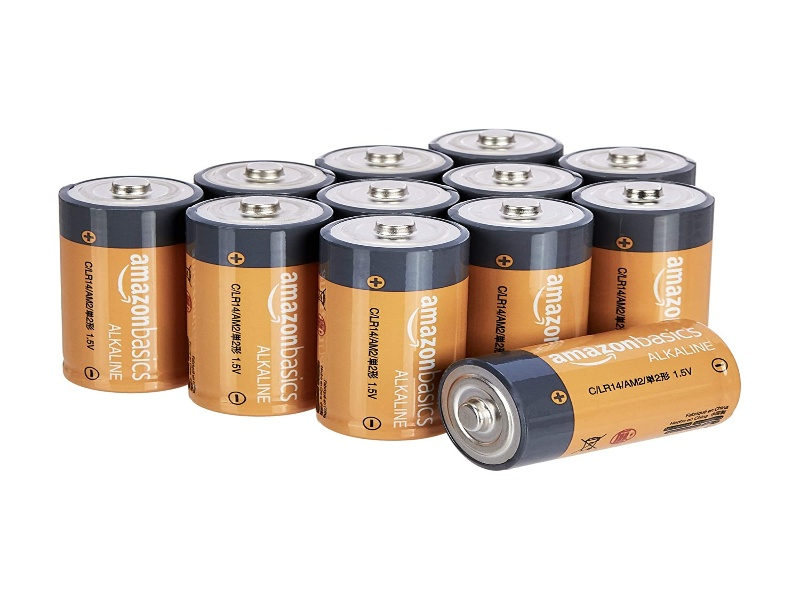Used_Batteried_NonBioD: (30, 107, 765, 489)
